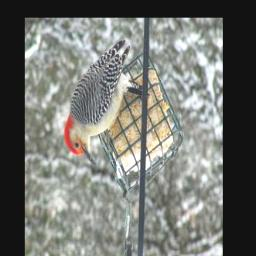Woodpecker: (64, 39, 146, 164)
